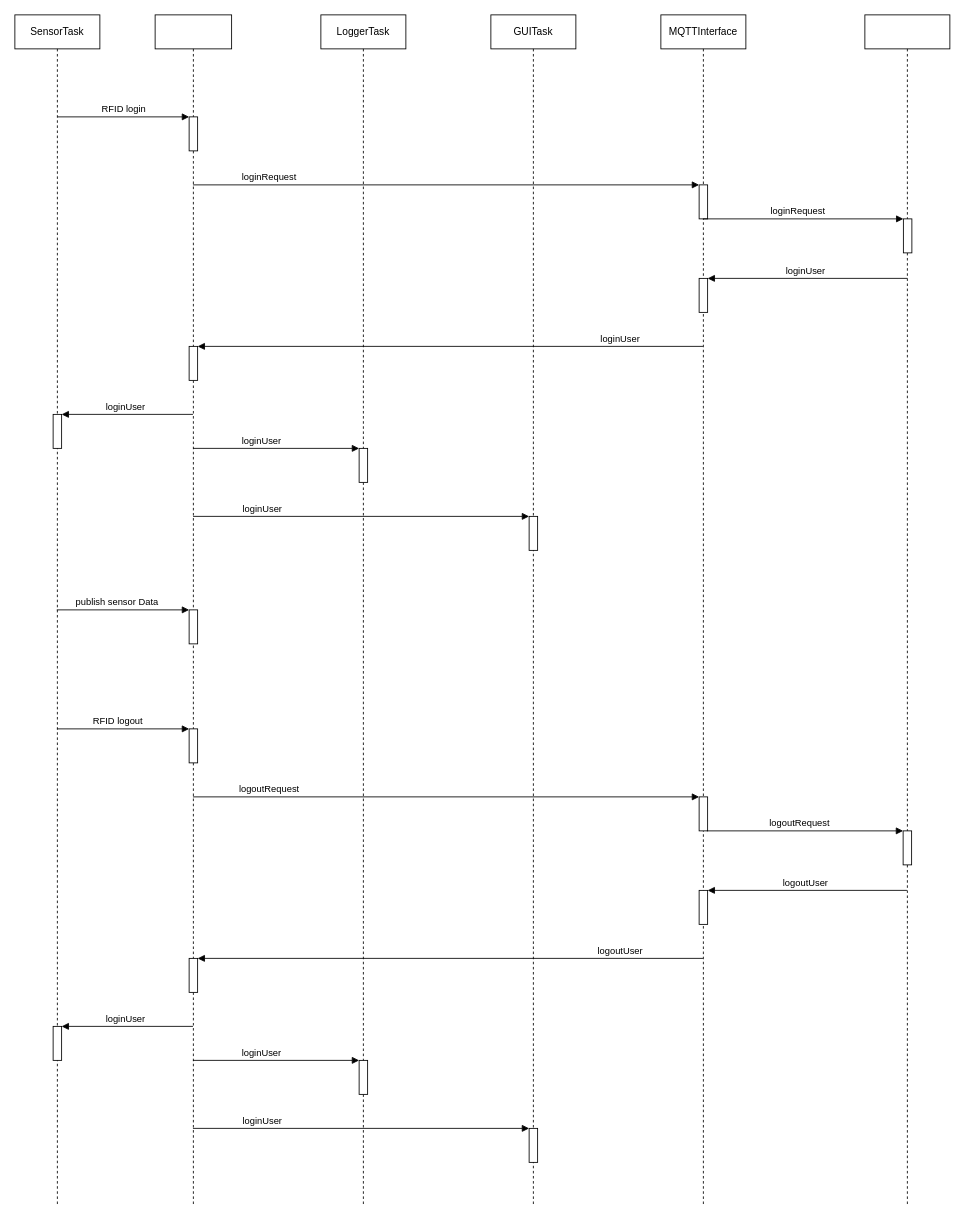
Image size: 965x1220. Some labels were removed from this diagram. Each missing label, with the box of its shape:
ea-pc165 MQTT Broker: (864, 14, 950, 1205)
local MQTT Broker: (154, 14, 232, 1205)
